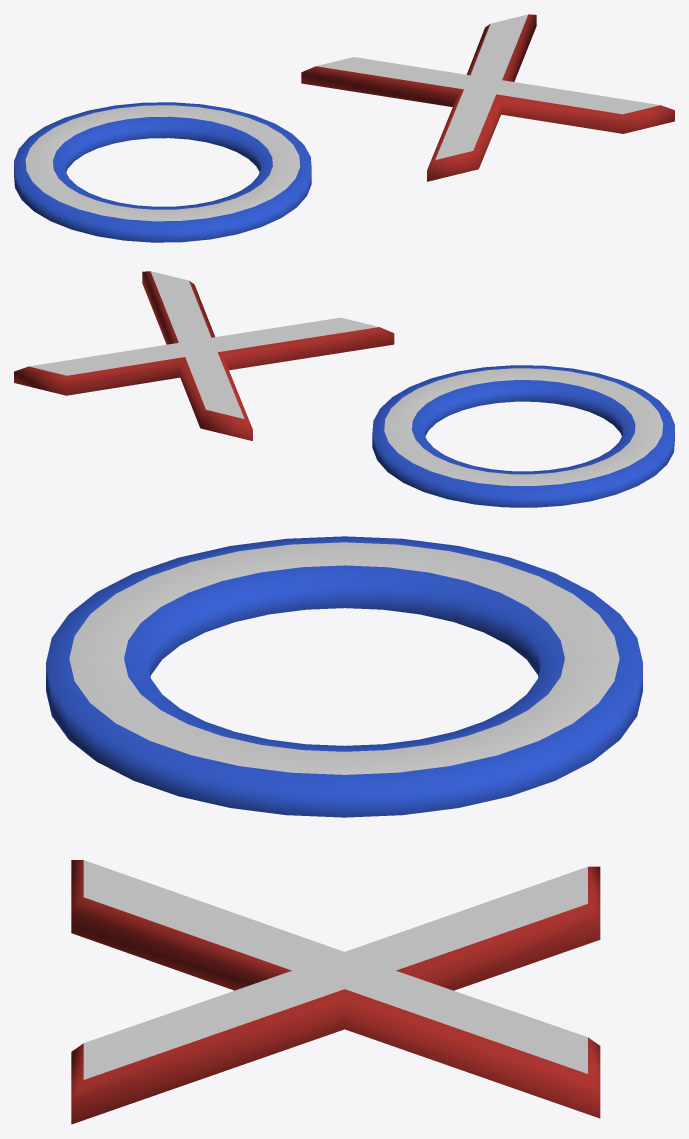
The model's file is X and O.fbx.
The picture shows the model from 3 angles, top to bottom: view 1: azimuth 30°, elevation 25°; view 2: azimuth 150°, elevation 25°; view 3: azimuth 270°, elevation 25°; orthographic projection. The views are drawn at different scales.
Parts seen in each view (by area): view 1: Cylinder, Text; view 2: Cylinder, Text; view 3: Cylinder, Text.
Part boxes in pixels (x1=…): Cylinder: x1=14, y1=102, x2=311, y2=242; Text: x1=301, y1=14, x2=674, y2=181; Cylinder: x1=372, y1=365, x2=674, y2=507; Text: x1=14, y1=271, x2=394, y2=440; Cylinder: x1=46, y1=536, x2=642, y2=817; Text: x1=71, y1=860, x2=600, y2=1124.
Size of the model in its own units: 537 by 15 by 242.
